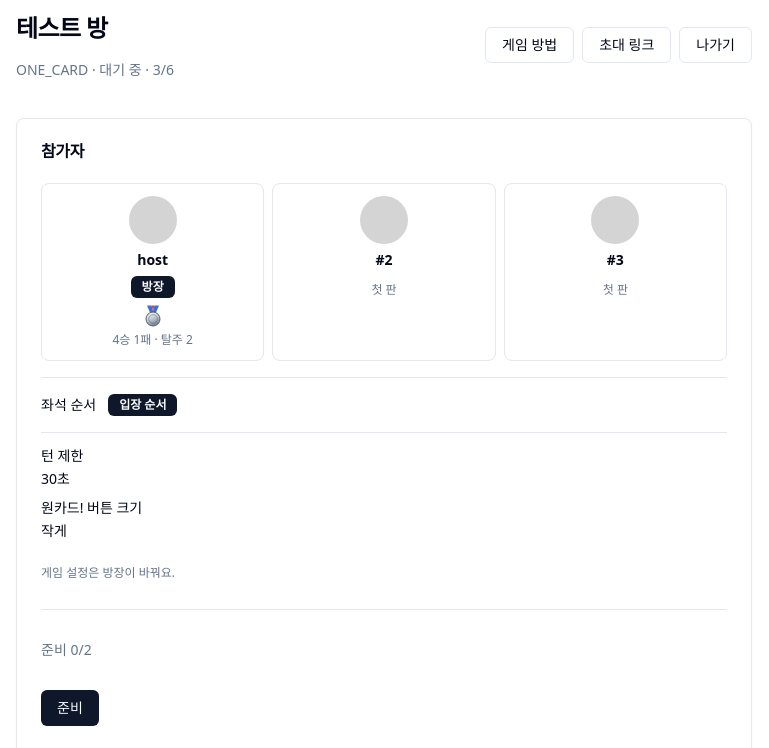
RoomPage — 대기실 설정·준비 (D-161) › 손님은 설정을 보기만 하고 [준비]를 누른다 — 다시 누르면 준비 취소
Expected: the text "30초" is shown, [41,469,70,488]
Expected: the text "작게" is shown, [41,521,67,540]
Click the button "준비" at x=70, y=708, box [41,690,99,726]
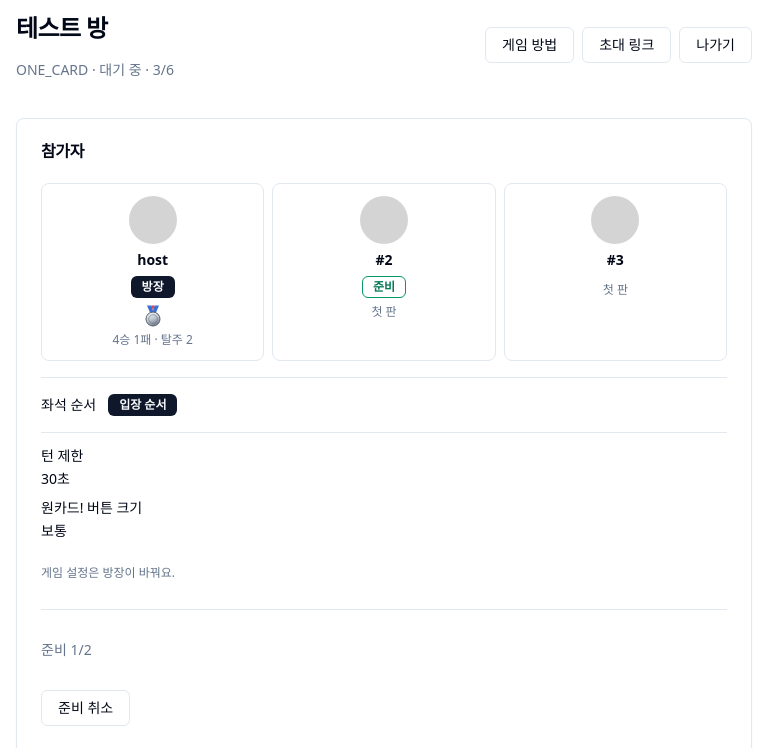
Result: the button "준비 취소" is shown at [41,690,130,726]
